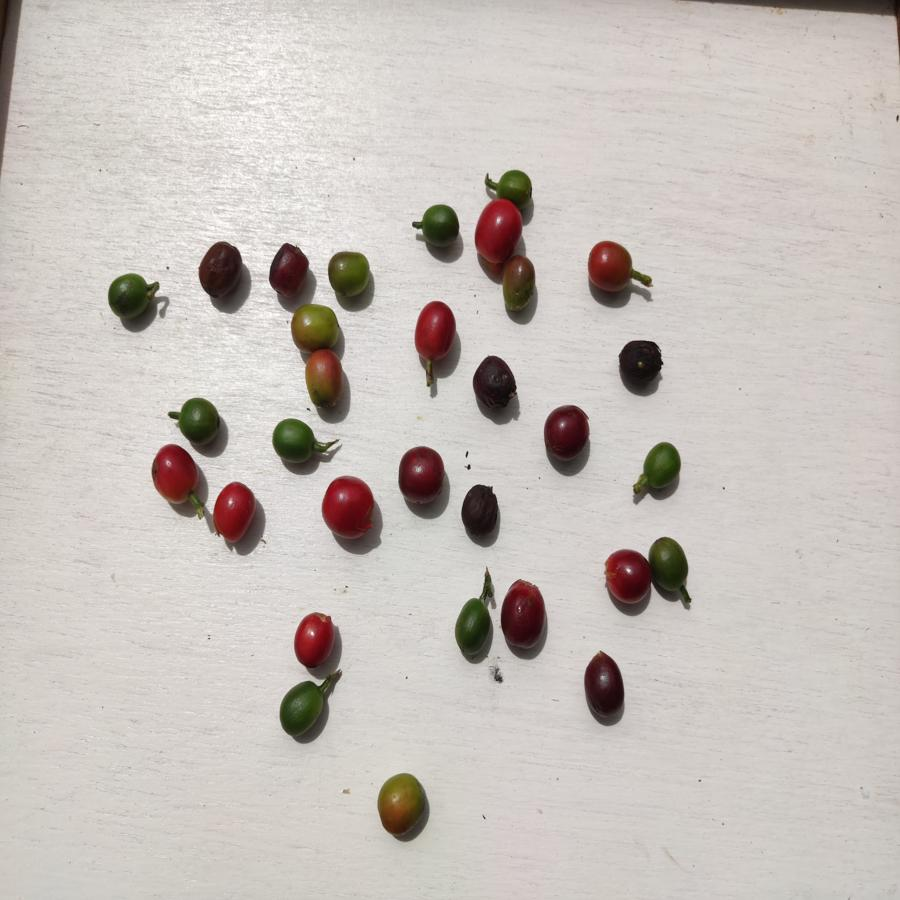Inmaduro: (278, 677, 330, 742), (448, 593, 495, 663), (648, 531, 691, 595), (271, 417, 320, 469), (176, 395, 223, 445), (423, 201, 463, 258), (640, 441, 684, 492), (108, 269, 148, 321), (491, 168, 539, 204)
Maduro: (319, 475, 378, 544), (149, 441, 199, 507), (411, 297, 459, 365), (472, 199, 524, 261), (584, 236, 635, 298), (601, 545, 649, 609), (211, 479, 257, 541), (291, 609, 336, 671)
Pinton: (375, 768, 432, 839), (302, 348, 352, 412), (289, 303, 342, 353), (327, 248, 372, 304), (503, 254, 537, 317)
Sobremaduro: (499, 576, 549, 652), (579, 648, 628, 719), (470, 350, 519, 415), (615, 337, 668, 394), (198, 238, 244, 303), (542, 400, 590, 462), (398, 444, 445, 507), (266, 237, 312, 300), (460, 480, 502, 541)
